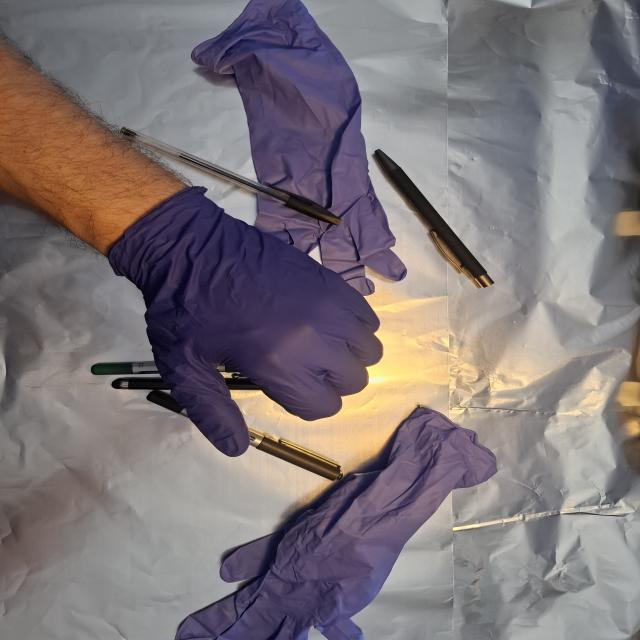glove_on: (103, 183, 389, 460)
